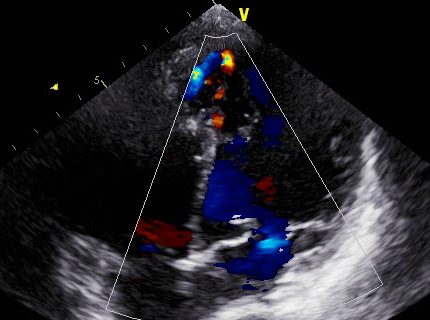MR: (223, 199, 312, 268)
